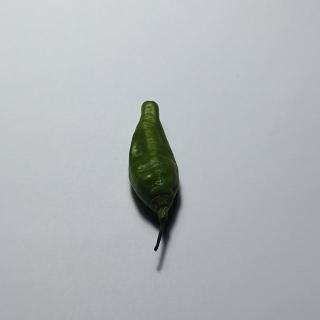Cabai Hijau: (126, 95, 182, 259)
